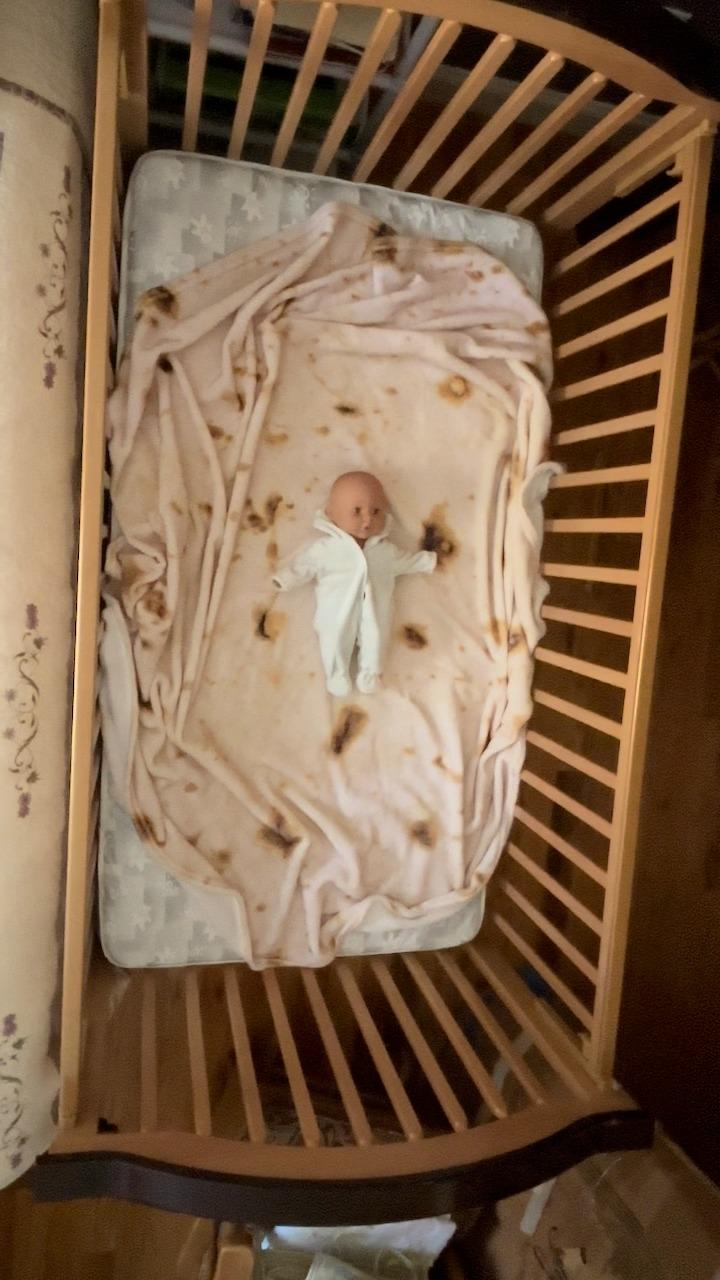baby: (285, 470, 452, 696)
